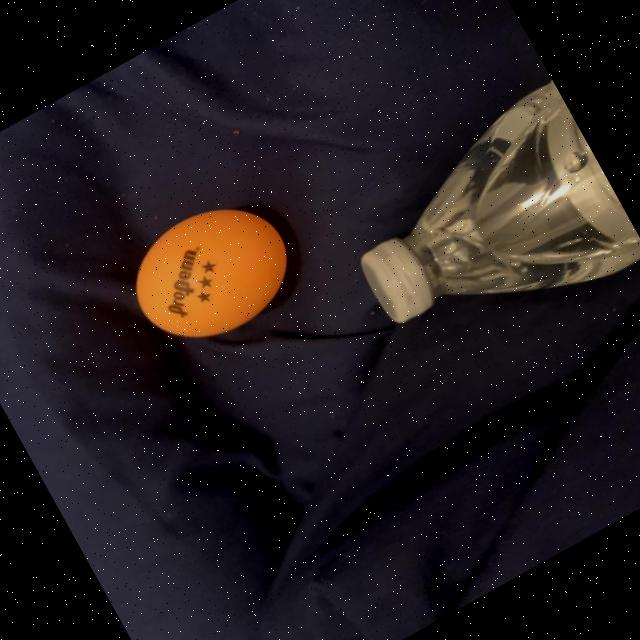ping-pong-ball: (101, 170, 320, 373)
